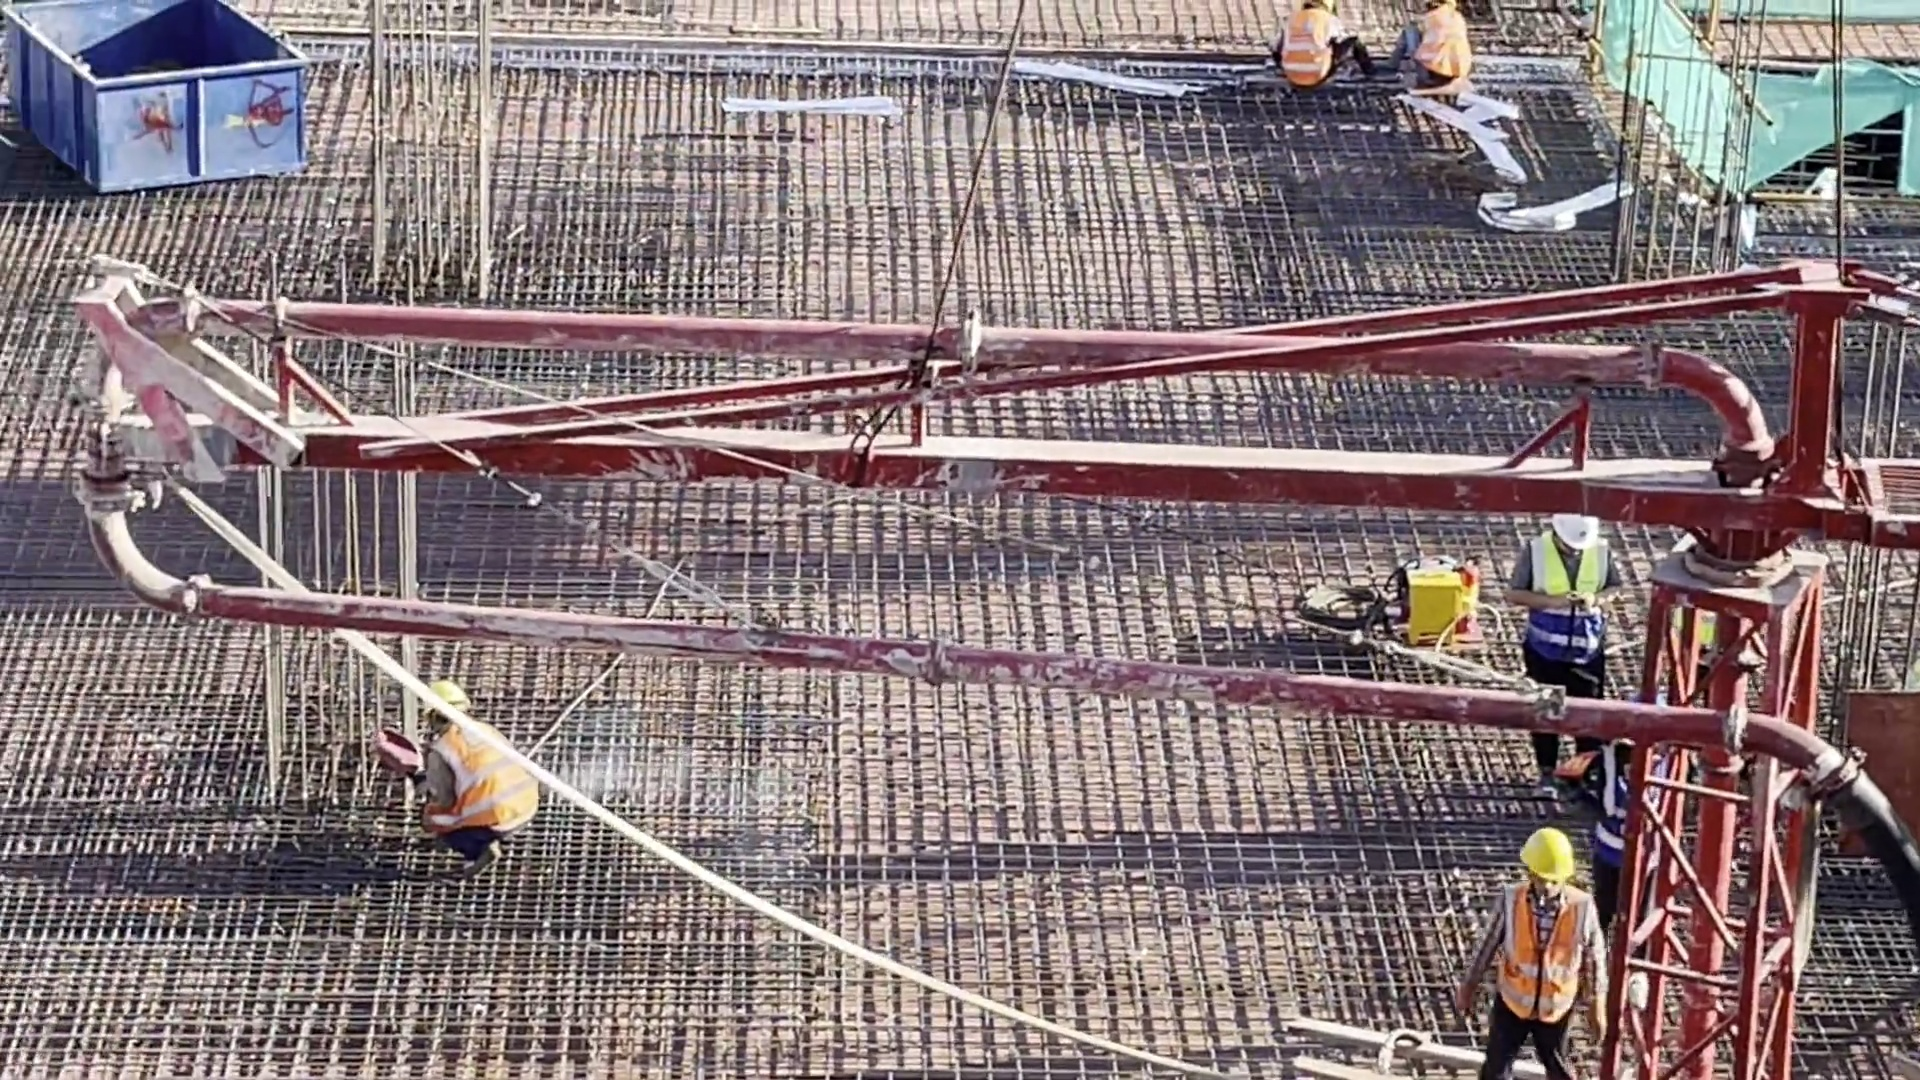helmet: (1524, 833, 1579, 889), (1548, 512, 1601, 547), (425, 677, 467, 713), (1307, 1, 1337, 9)
person: (1464, 828, 1610, 1071), (1512, 513, 1613, 800), (417, 676, 540, 873), (1574, 738, 1666, 909), (1273, 1, 1377, 106), (1399, 1, 1474, 111)
vest: (1496, 897, 1597, 1029), (1537, 555, 1616, 680), (433, 727, 528, 820), (1284, 11, 1339, 88), (1416, 19, 1467, 76)
